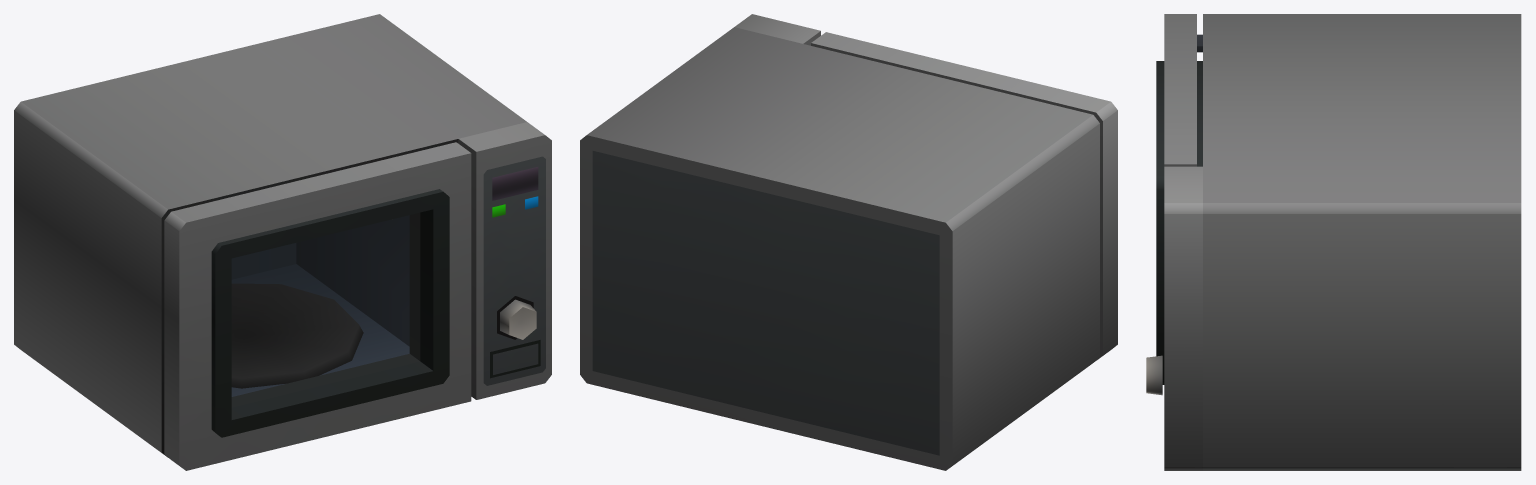
The model's file is TSP_Microwave_01A.fbx.
3 views of the same model, side by side, from view 1: azimuth 30°, elevation 25°; view 2: azimuth 150°, elevation 25°; view 3: azimuth 270°, elevation 25° (orthographic). The views are drawn at different scales.
Visible parts, largest first — view 1: TSP_Microwave_01A, TSP_Microwave_01A_Door; view 2: TSP_Microwave_01A, TSP_Microwave_01A_Door; view 3: TSP_Microwave_01A, TSP_Microwave_01A_Door.
Part boxes in pixels (x1,y1,x2,y2): TSP_Microwave_01A: [14, 14, 551, 457]; TSP_Microwave_01A_Door: [164, 142, 471, 470]; TSP_Microwave_01A: [580, 14, 1099, 470]; TSP_Microwave_01A_Door: [811, 32, 1117, 359]; TSP_Microwave_01A: [1146, 14, 1521, 470]; TSP_Microwave_01A_Door: [1156, 14, 1202, 384].
Bounding box in the file's own units: 0.5589 × 0.356 × 0.4524.
